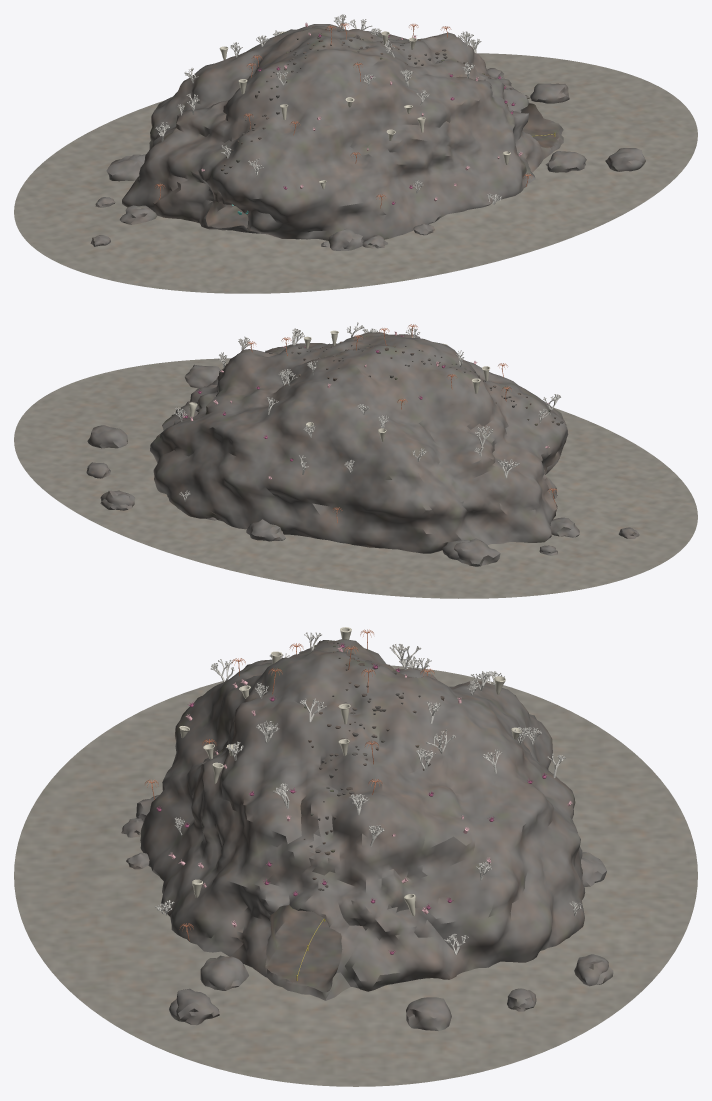
The model's file is SM_SeaCave.fbx.
The picture shows the model from 3 angles, top to bottom: view 1: azimuth 30°, elevation 25°; view 2: azimuth 150°, elevation 25°; view 3: azimuth 270°, elevation 25°; orthographic projection. The views are drawn at different scales.
Visible parts, largest first — view 1: SM_SeaCave; view 2: SM_SeaCave; view 3: SM_SeaCave.
Boxes of the visible parts, x1,y1,x2,y2 form: SM_SeaCave: (14,14,697,293); SM_SeaCave: (14,322,697,598); SM_SeaCave: (14,627,697,1086).
Size of the model in its own units: 32.3 by 8.28 by 22.1.
Materials: 2 (1 with a texture image).
